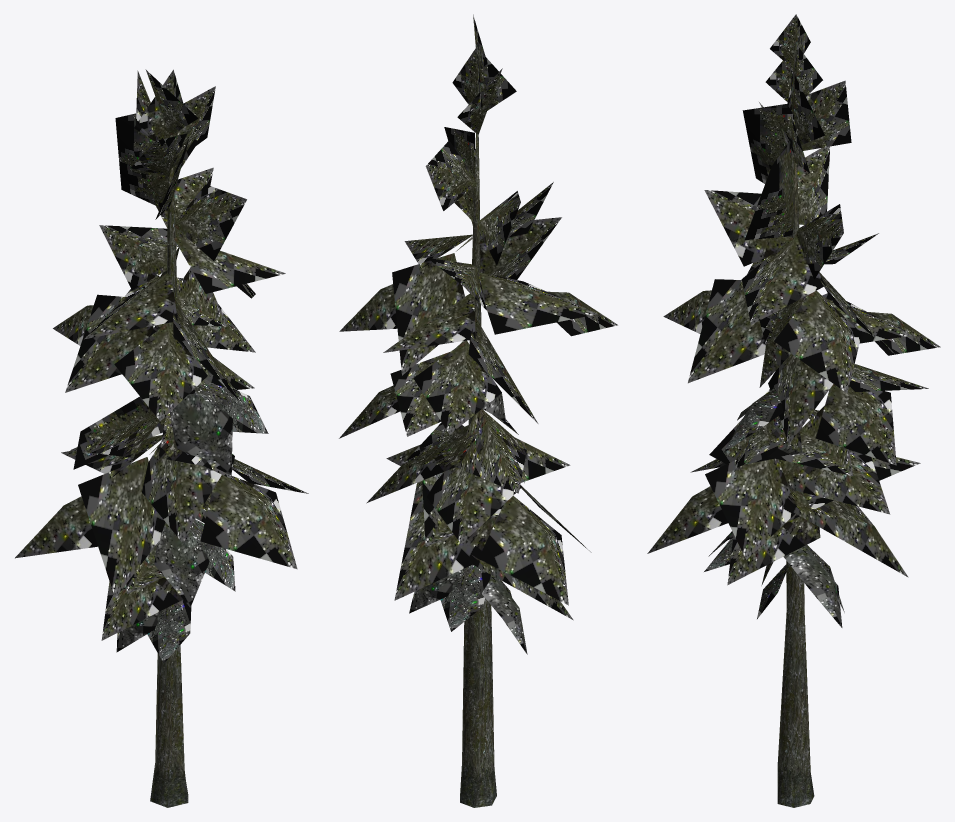
File: treepineforestdeadsnowl04-transformed.glb
3 views of the same model, side by side, from view 1: azimuth 30°, elevation 25°; view 2: azimuth 150°, elevation 25°; view 3: azimuth 270°, elevation 25° (orthographic).
Visible parts, largest first — view 1: default; view 2: default; view 3: default.
Part boxes in pixels (left/top/right/bottom): default: left=15, top=69, right=308, bottom=807; default: left=339, top=14, right=617, bottom=807; default: left=647, top=14, right=940, bottom=807.
Bounding box in the file's own units: 6.93 × 21.73 × 7.36.
Materials: 2 (2 with a texture image).
